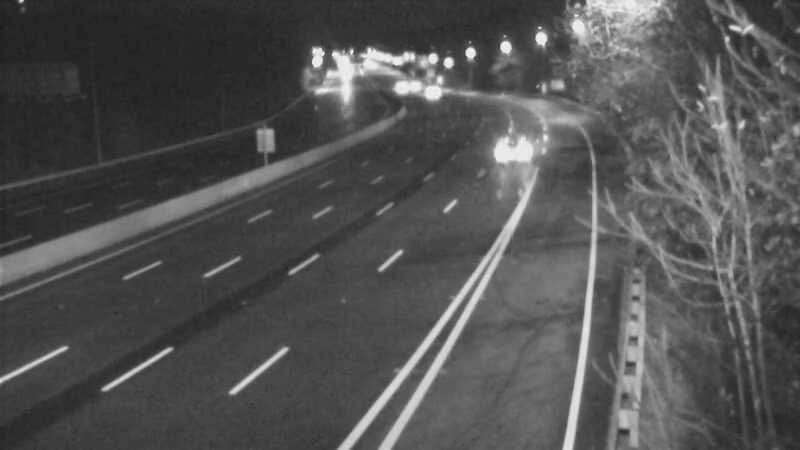vehicle: (386, 59, 436, 109), (373, 61, 423, 111), (409, 68, 459, 118), (486, 116, 536, 166)
